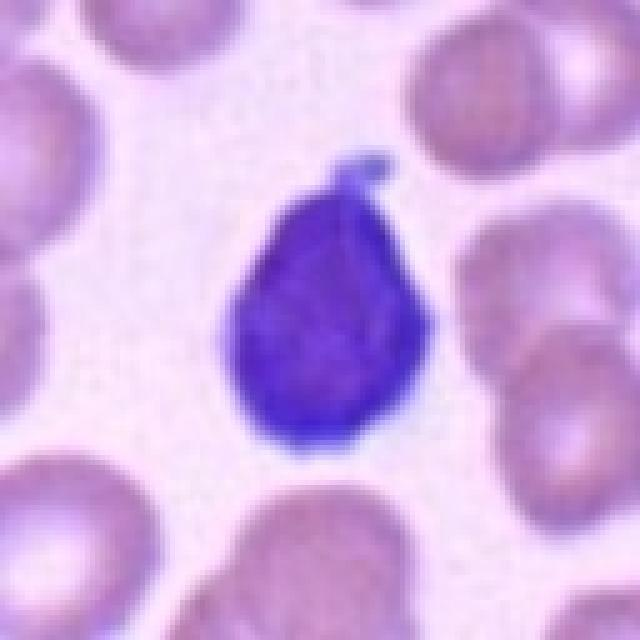lympho: (208, 139, 440, 483)
